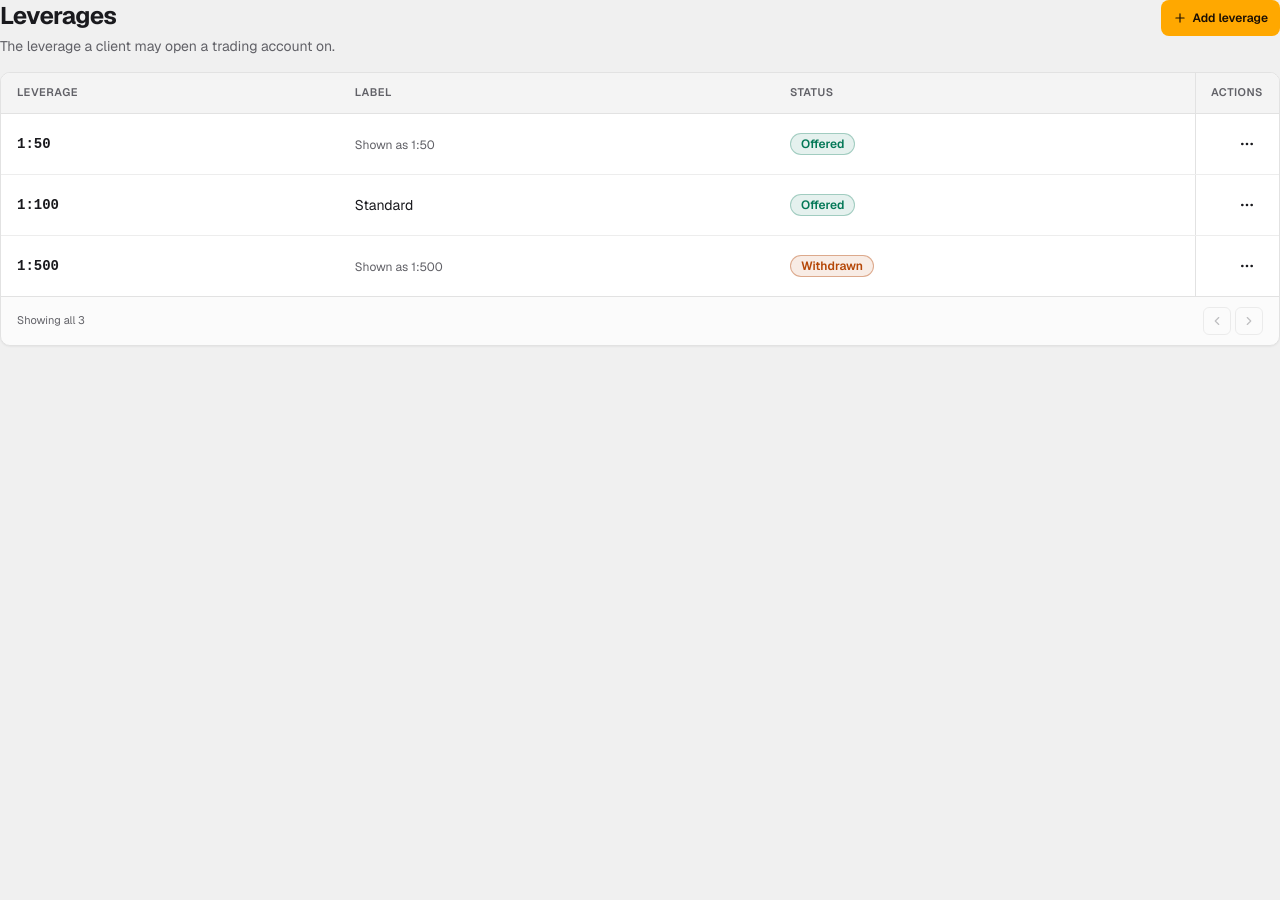
the form › fixes the ratio when editing an existing rung
Expected: the text "1:100" is shown, [17,197,59,213]
Click the button named "actions for 1:100" at (1247, 205), box [1231,189,1263,221]
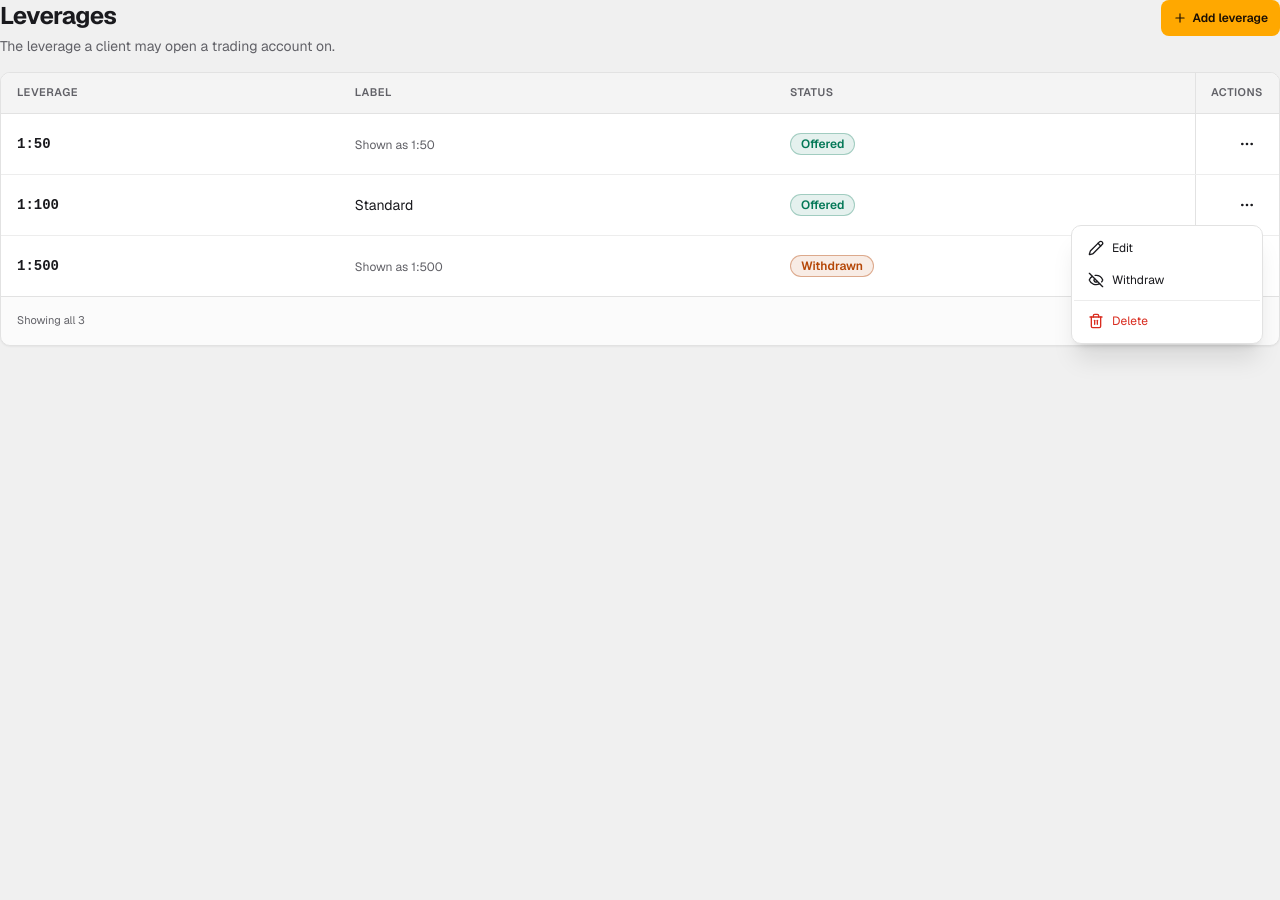
Click the menu item "Edit" at (1111, 248), box [1088,240,1133,256]
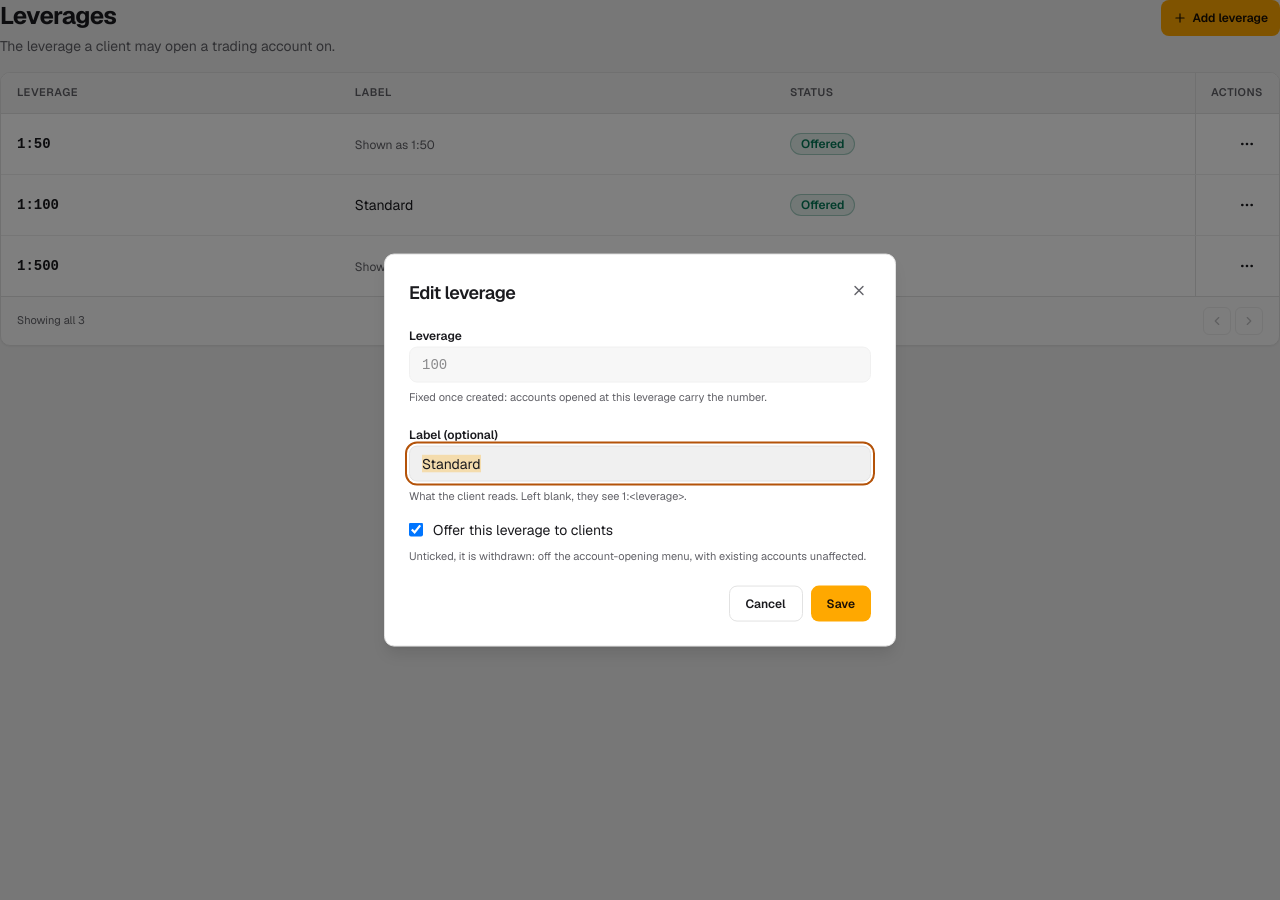
Now the number field labelled "Leverage" is disabled, box [409,347,871,383]
Now the number field labelled "Leverage" holds "100", box [409,347,871,383]
